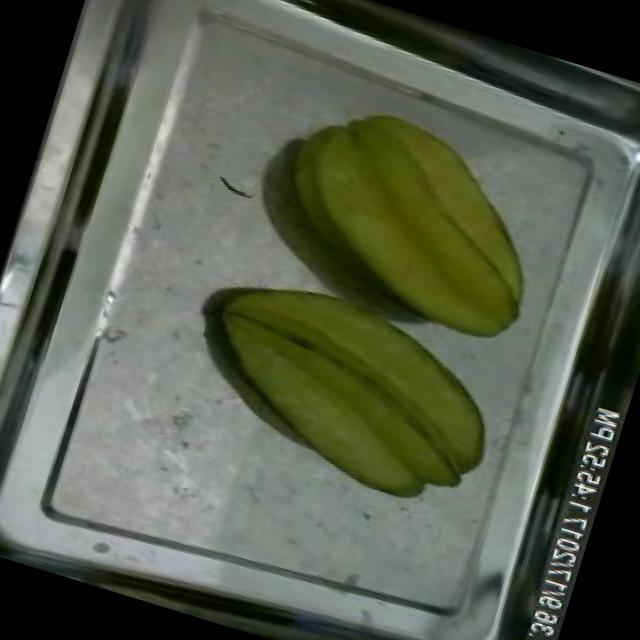fruit: (161, 247, 529, 528), (240, 76, 580, 364)
